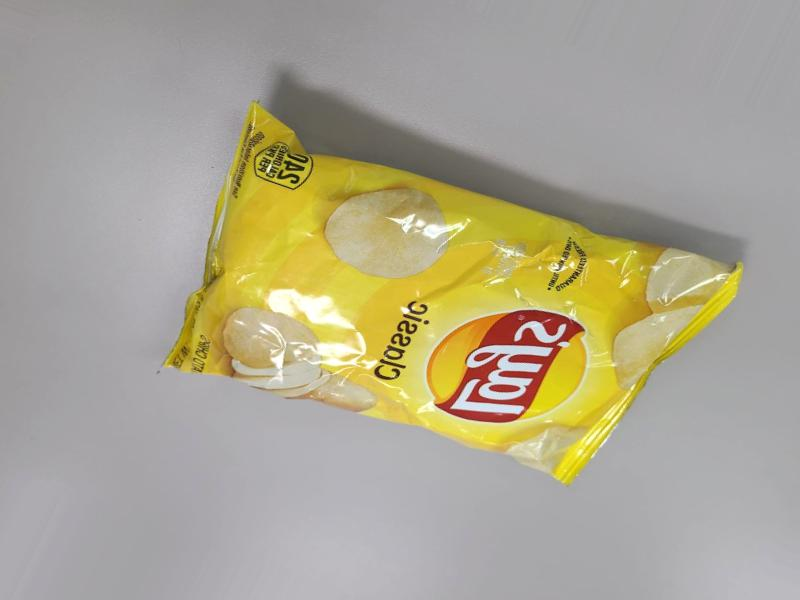lays: (212, 112, 800, 479)
